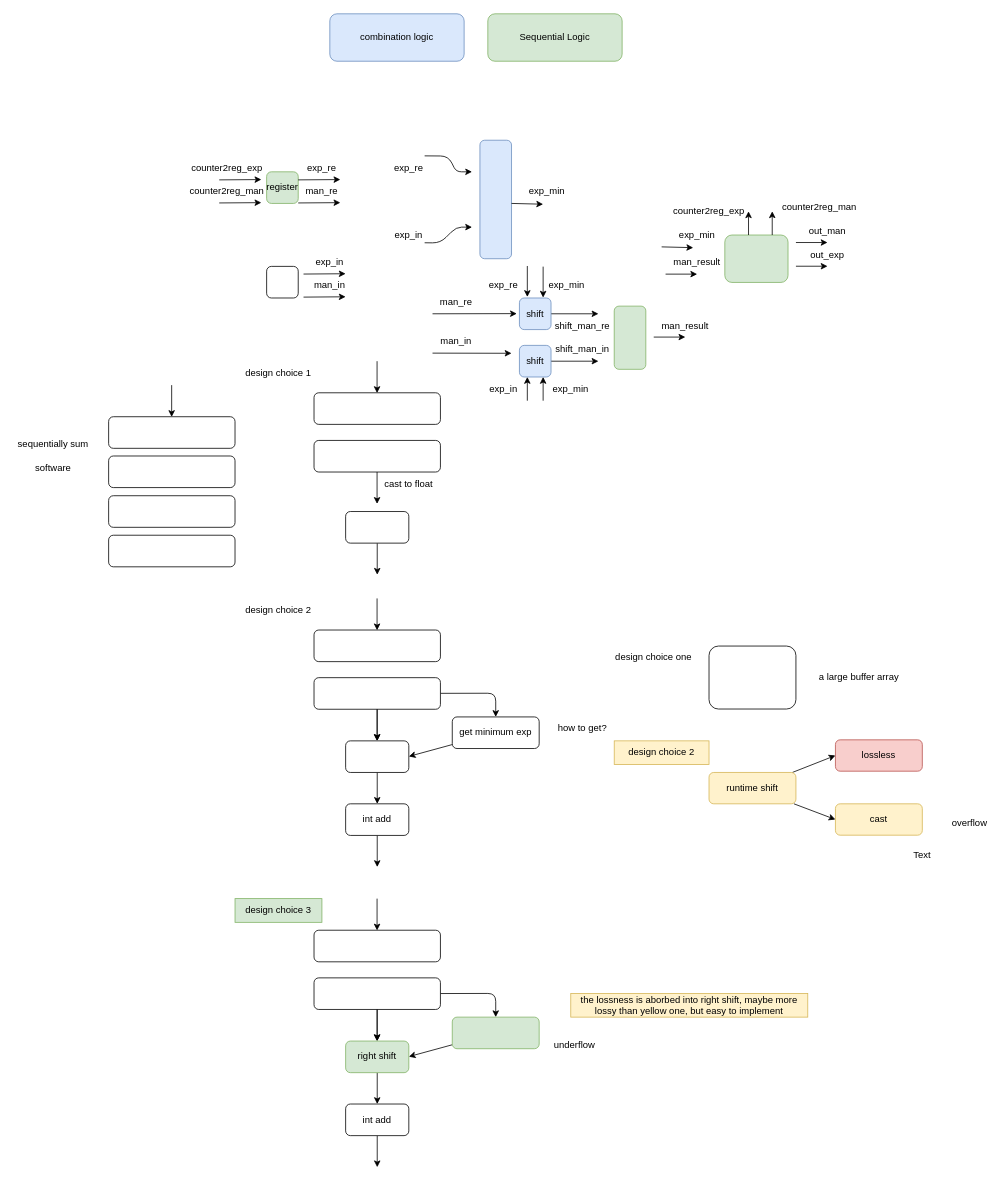
This 1006x1187 diagram has some shape labels left out. Here are the shapes that lost their labels. From the top down, the centre of each, then its label:
At point 495,199: "compare".
At point 756,258: "counter".
At point 282,282: "input".
At point 629,337: "add".
At point 377,527: "float add".
At point 752,677: "hold all the value".
At point 377,756: "left shift".
At point 495,1032: "get maximum exp".
